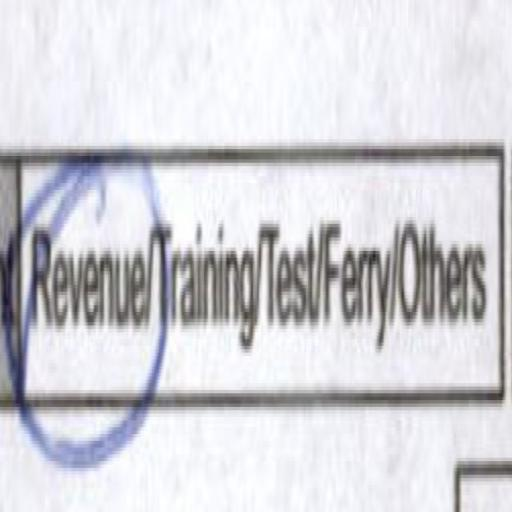check: (31, 105, 161, 481)
